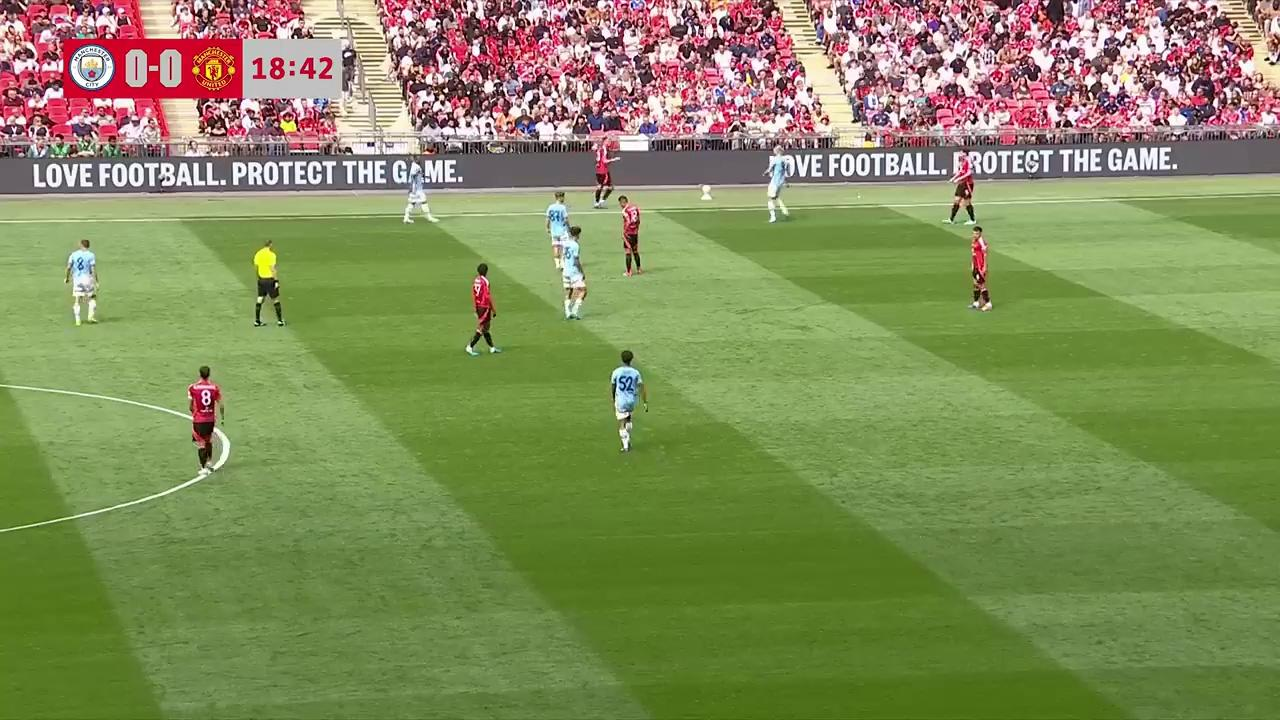player: (609, 350, 648, 451), (187, 366, 224, 471), (466, 263, 500, 355), (64, 238, 98, 325), (556, 239, 587, 320), (969, 225, 992, 311), (946, 156, 975, 224), (764, 153, 790, 222), (620, 197, 642, 275), (544, 192, 571, 252), (402, 174, 433, 224), (593, 150, 613, 207)
referee: (253, 239, 286, 334)
